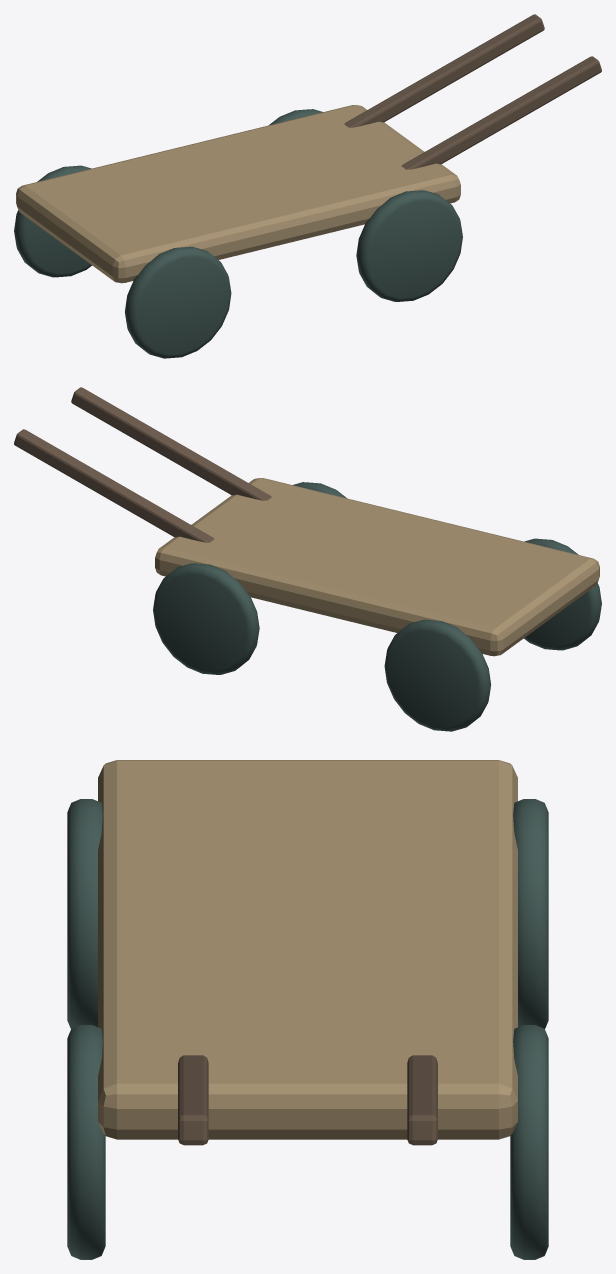
Rendered from SM_Handcart.fbx.
The picture shows the model from 3 angles, top to bottom: view 1: azimuth 30°, elevation 25°; view 2: azimuth 150°, elevation 25°; view 3: azimuth 270°, elevation 25°; orthographic projection. The views are drawn at different scales.
Visible parts, largest first — view 1: SM_Handcart; view 2: SM_Handcart; view 3: SM_Handcart.
Part boxes in pixels (bbox=[...]): SM_Handcart: bbox=[14, 14, 601, 358]; SM_Handcart: bbox=[14, 387, 601, 731]; SM_Handcart: bbox=[67, 760, 548, 1259].
Bounding box in the file's own units: 306 × 126 × 98.38.
